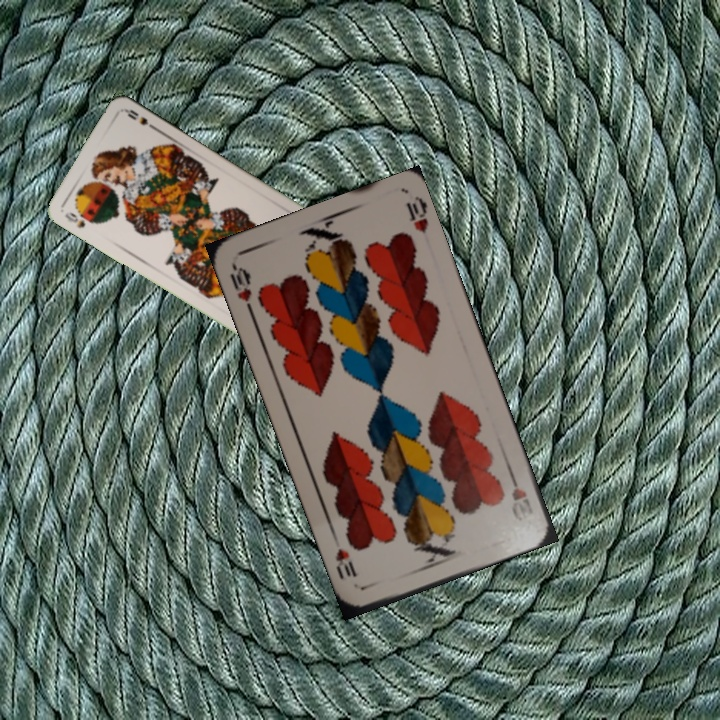H10: (225, 260, 257, 318), (504, 467, 536, 519)
SO: (61, 208, 96, 231)
